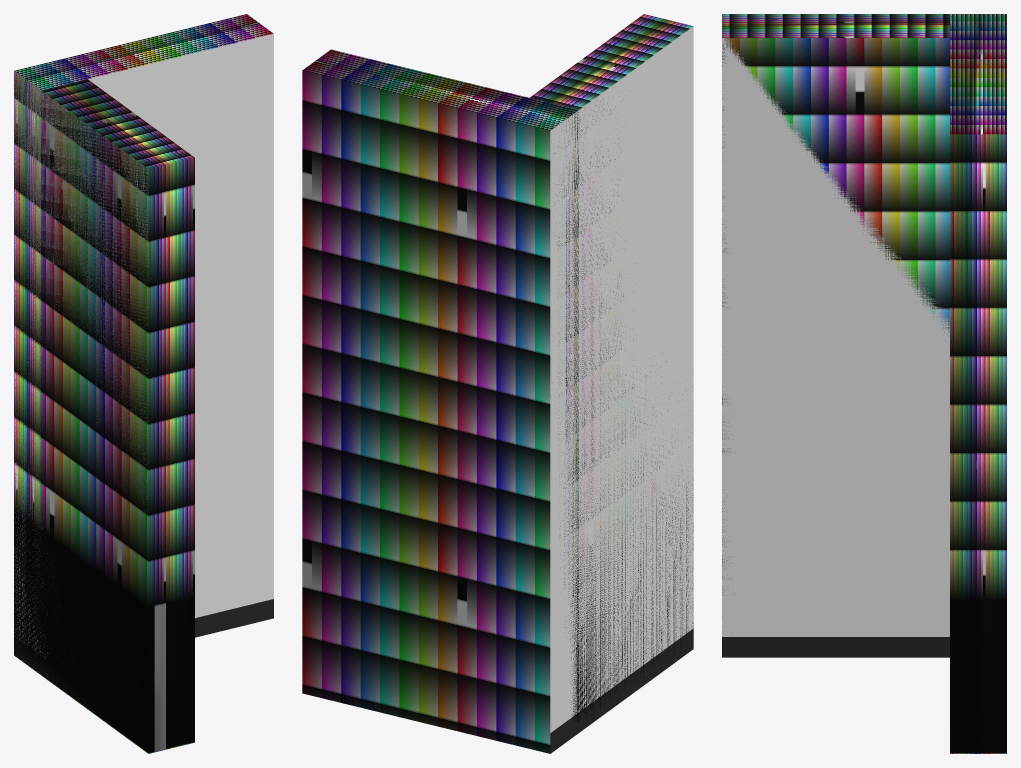
File: interiorWall_corner_1x1_white.fbx
The picture shows the model from 3 angles, left to right: view 1: azimuth 30°, elevation 25°; view 2: azimuth 150°, elevation 25°; view 3: azimuth 270°, elevation 25°; orthographic projection. The views are drawn at different scales.
Parts seen in each view (by area): view 1: interiorWall_corner_1x1_trigger_1_white, interiorWall_corner_1x1_white, interiorWall_corner_1x1_trigger_2_white; view 2: interiorWall_corner_1x1_trigger_2_white, interiorWall_corner_1x1_white, interiorWall_corner_1x1_trigger_1_white; view 3: interiorWall_corner_1x1_white, interiorWall_corner_1x1_trigger_2_white, interiorWall_corner_1x1_trigger_1_white.
Boxes of the visible parts, x1,y1,x2,y2 form: interiorWall_corner_1x1_trigger_1_white: (41,79,194,753); interiorWall_corner_1x1_white: (14,33,273,724); interiorWall_corner_1x1_trigger_2_white: (14,14,273,674); interiorWall_corner_1x1_trigger_2_white: (302,49,578,753); interiorWall_corner_1x1_white: (550,26,693,753); interiorWall_corner_1x1_trigger_1_white: (530,14,693,721); interiorWall_corner_1x1_white: (722,38,949,657); interiorWall_corner_1x1_trigger_2_white: (950,14,1006,753); interiorWall_corner_1x1_trigger_1_white: (722,14,949,657).
Size of what is drawn, in the model's own units: 125 by 300 by 125.
